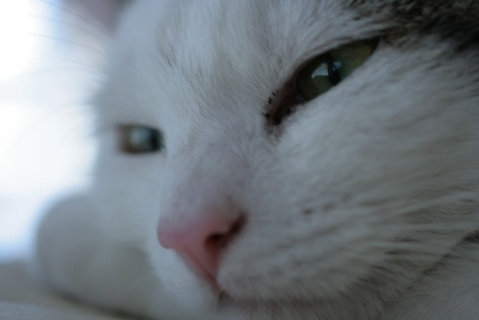Cat: (4, 0, 479, 320)
